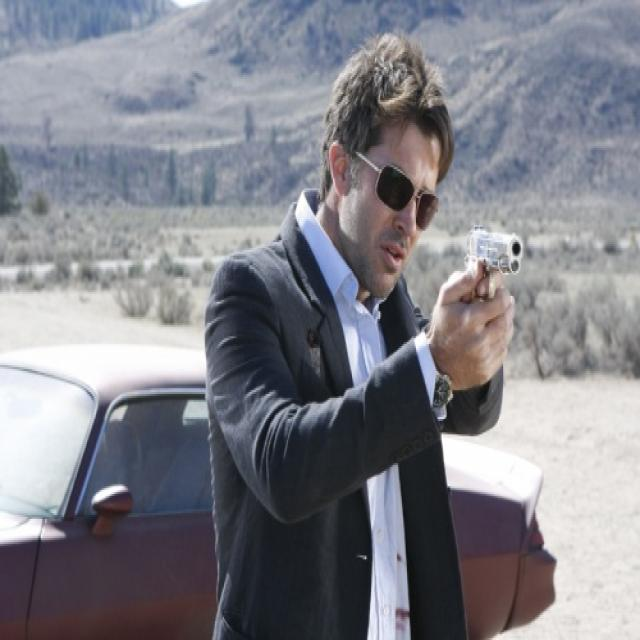weapons: (441, 208, 541, 386)
